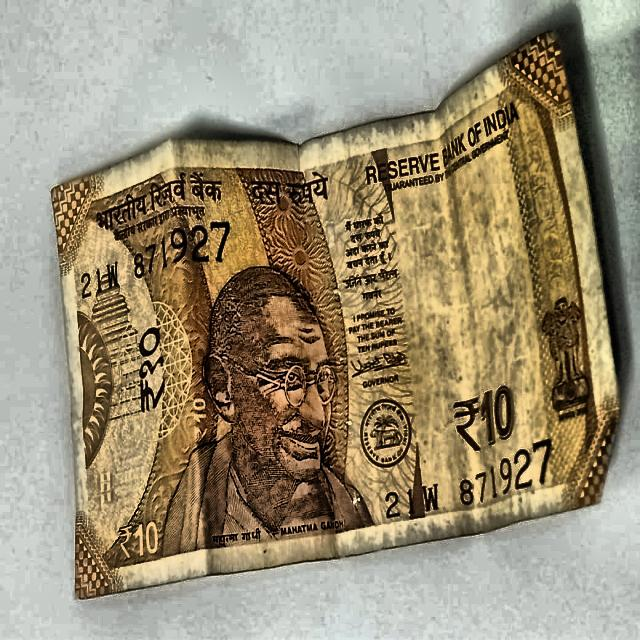-10-: (27, 57, 640, 586)
